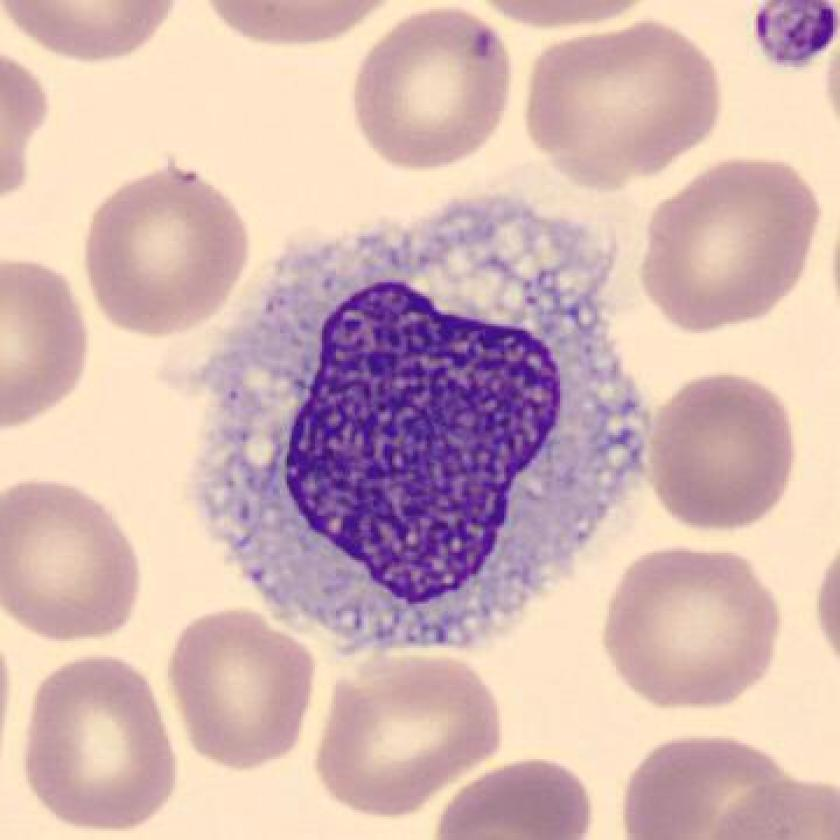monocyte: (167, 166, 661, 696)
